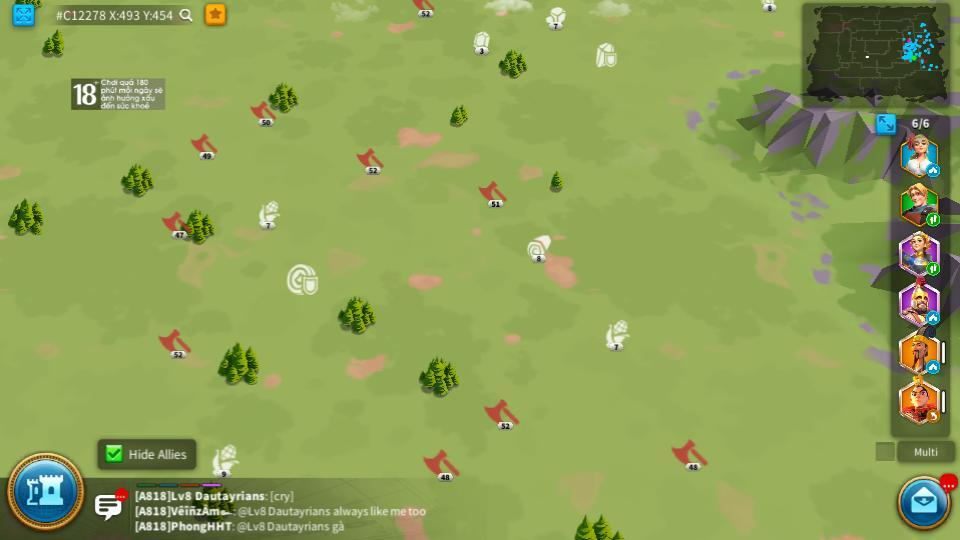gem-z-out: (471, 31, 491, 52)
march_idle: (926, 312, 940, 324), (926, 362, 940, 373), (927, 165, 940, 176)
march_marching: (926, 263, 940, 275), (927, 215, 940, 226)
march_returning: (926, 411, 940, 422)
